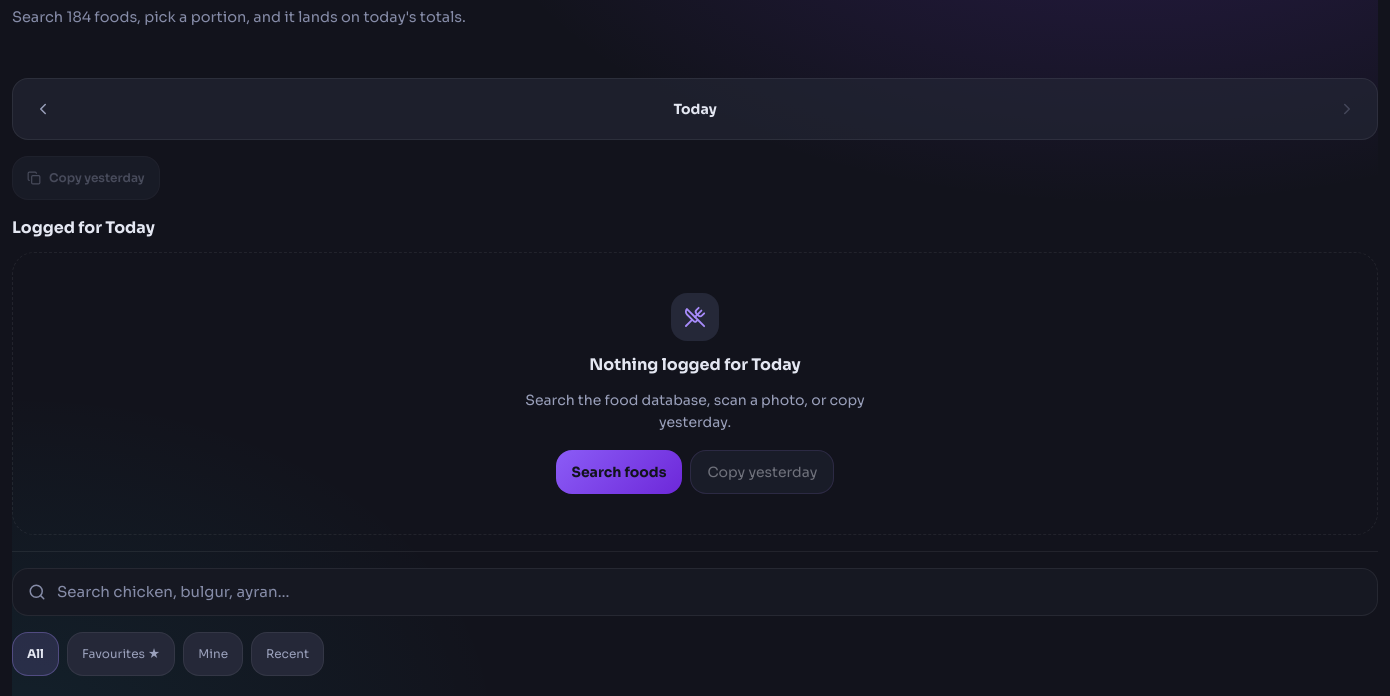
Test: LogScreen — search › finds foods as you type
Type "chicken" into the search field named "search foods". click: (695, 592)
box: [12,568,1378,616]
(page scrolled)
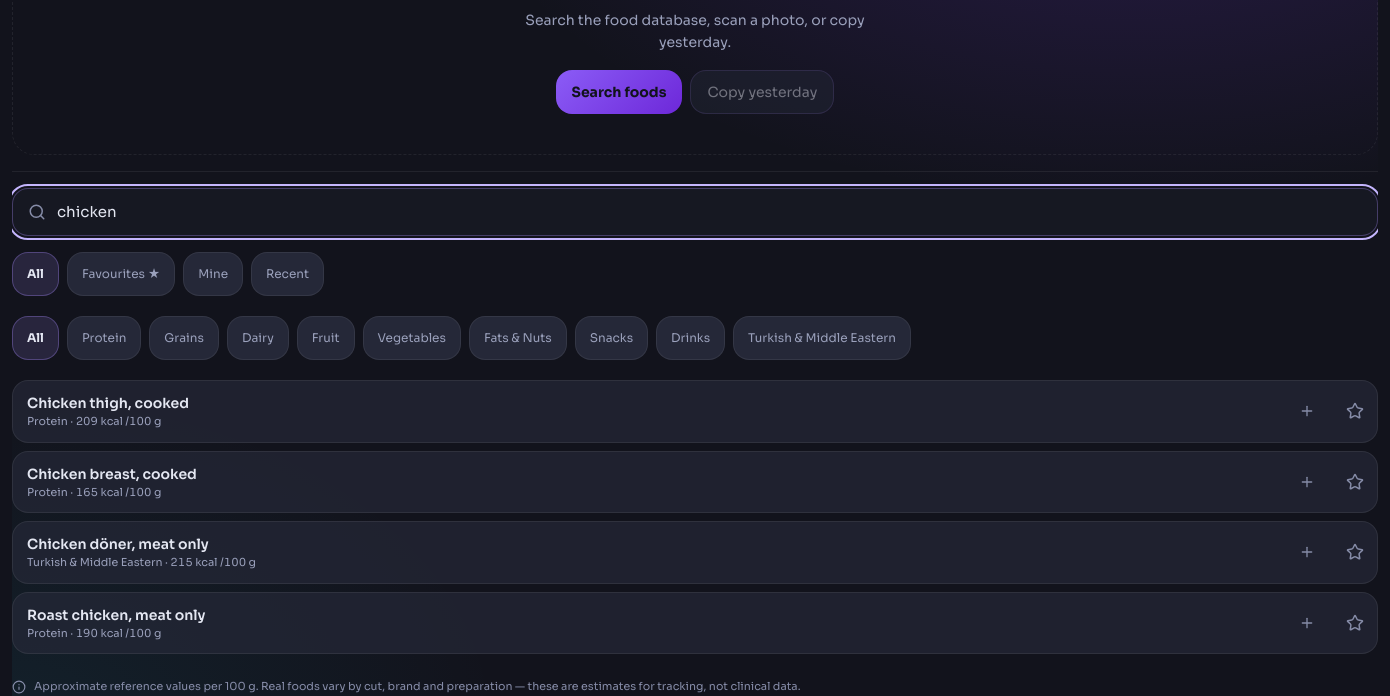
Result: the button "Chicken thigh, cooked protein · 209 kcal /100 g" is shown at [13,381,1329,442]
